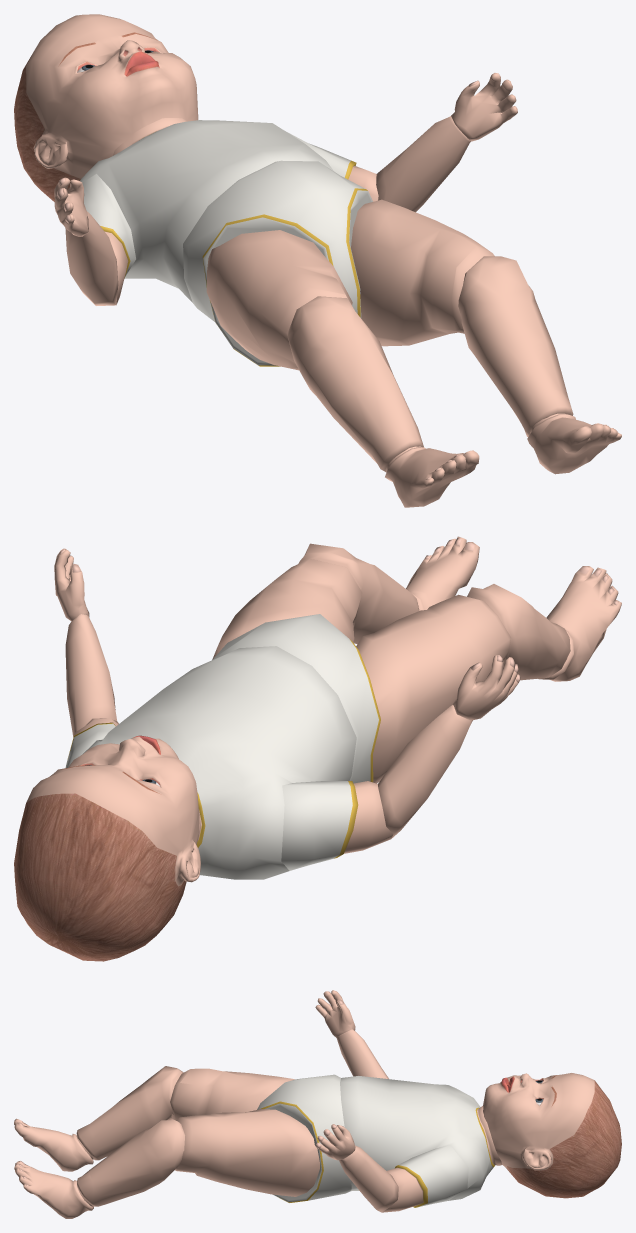
File: sweethome3d-scopia-mannequin-baby.glb
3 renders of one model, top to bottom at view 1: azimuth 30°, elevation 25°; view 2: azimuth 150°, elevation 25°; view 3: azimuth 270°, elevation 25°, orthographic. The views are drawn at different scales.
Visible parts, largest first — view 1: sweethome3d_mannequin_head_head, sweethome3d_mannequin_chest_chest, sweethome3d_mannequin_left_thigh_leftThigh, sweethome3d_mannequin_pelvis_pelvis, sweethome3d_mannequin_right_leg_rightLeg, sweethome3d_mannequin_right_thigh_rightThigh, sweethome3d_mannequin_left_leg_leftLeg, sweethome3d_mannequin_left_forearm_leftForearm, sweethome3d_mannequin_right_foot_rightFoot, sweethome3d_mannequin_left_foot_leftFoot, sweethome3d_mannequin_right_forearm_rightForearm, sweethome3d_mannequin_left_hand_leftHand (+3 smaller); view 2: sweethome3d_mannequin_head_head, sweethome3d_mannequin_chest_chest, sweethome3d_mannequin_right_thigh_rightThigh, sweethome3d_mannequin_pelvis_pelvis, sweethome3d_mannequin_right_arm_rightArm, sweethome3d_mannequin_left_thigh_leftThigh, sweethome3d_mannequin_right_forearm_rightForearm, sweethome3d_mannequin_right_foot_rightFoot, sweethome3d_mannequin_right_leg_rightLeg, sweethome3d_mannequin_left_forearm_leftForearm, sweethome3d_mannequin_left_leg_leftLeg, sweethome3d_mannequin_left_foot_leftFoot (+3 smaller); view 3: sweethome3d_mannequin_head_head, sweethome3d_mannequin_chest_chest, sweethome3d_mannequin_left_thigh_leftThigh, sweethome3d_mannequin_left_leg_leftLeg, sweethome3d_mannequin_pelvis_pelvis, sweethome3d_mannequin_right_leg_rightLeg, sweethome3d_mannequin_right_thigh_rightThigh, sweethome3d_mannequin_left_arm_leftArm, sweethome3d_mannequin_left_foot_leftFoot, sweethome3d_mannequin_left_forearm_leftForearm, sweethome3d_mannequin_right_foot_rightFoot, sweethome3d_mannequin_right_forearm_rightForearm (+2 smaller).
Boxes of the visible parts, x1,y1,x2,y2 form: sweethome3d_mannequin_head_head: (14, 14, 198, 201); sweethome3d_mannequin_chest_chest: (80, 118, 333, 302); sweethome3d_mannequin_left_thigh_leftThigh: (351, 199, 494, 346); sweethome3d_mannequin_pelvis_pelvis: (183, 160, 372, 366); sweethome3d_mannequin_right_leg_rightLeg: (287, 296, 423, 472); sweethome3d_mannequin_right_thigh_rightThigh: (206, 230, 352, 370); sweethome3d_mannequin_left_leg_leftLeg: (458, 256, 573, 436); sweethome3d_mannequin_left_forearm_leftForearm: (376, 116, 471, 212); sweethome3d_mannequin_right_foot_rightFoot: (385, 447, 479, 507); sweethome3d_mannequin_left_foot_leftFoot: (527, 414, 621, 474); sweethome3d_mannequin_right_forearm_rightForearm: (65, 211, 118, 305); sweethome3d_mannequin_left_hand_leftHand: (451, 73, 517, 141); sweethome3d_mannequin_head_head: (14, 735, 200, 961); sweethome3d_mannequin_chest_chest: (82, 646, 356, 879); sweethome3d_mannequin_right_thigh_rightThigh: (356, 594, 511, 783); sweethome3d_mannequin_pelvis_pelvis: (212, 614, 380, 783); sweethome3d_mannequin_right_arm_rightArm: (281, 781, 393, 870); sweethome3d_mannequin_left_thigh_leftThigh: (212, 559, 362, 659); sweethome3d_mannequin_right_forearm_rightForearm: (378, 705, 472, 838); sweethome3d_mannequin_right_foot_rightFoot: (538, 566, 621, 681); sweethome3d_mannequin_right_leg_rightLeg: (467, 584, 570, 680); sweethome3d_mannequin_left_forearm_leftForearm: (65, 614, 116, 737); sweethome3d_mannequin_left_leg_leftLeg: (298, 543, 419, 643); sweethome3d_mannequin_left_foot_leftFoot: (406, 536, 479, 610); sweethome3d_mannequin_head_head: (483, 1073, 621, 1198); sweethome3d_mannequin_chest_chest: (340, 1076, 502, 1200); sweethome3d_mannequin_left_thigh_leftThigh: (175, 1109, 319, 1196); sweethome3d_mannequin_left_leg_leftLeg: (77, 1118, 184, 1206); sweethome3d_mannequin_pelvis_pelvis: (257, 1074, 351, 1202); sweethome3d_mannequin_right_leg_rightLeg: (76, 1066, 183, 1160); sweethome3d_mannequin_right_thigh_rightThigh: (170, 1068, 294, 1120); sweethome3d_mannequin_left_arm_leftArm: (382, 1145, 468, 1212); sweethome3d_mannequin_left_foot_leftFoot: (14, 1161, 93, 1218); sweethome3d_mannequin_left_forearm_leftForearm: (339, 1145, 398, 1212); sweethome3d_mannequin_right_foot_rightFoot: (14, 1118, 93, 1171); sweethome3d_mannequin_right_forearm_rightForearm: (336, 1029, 388, 1078).
Bounding box in the file's own units: 34.54 × 15.59 × 62.85.
37 materials, 9 textured.
